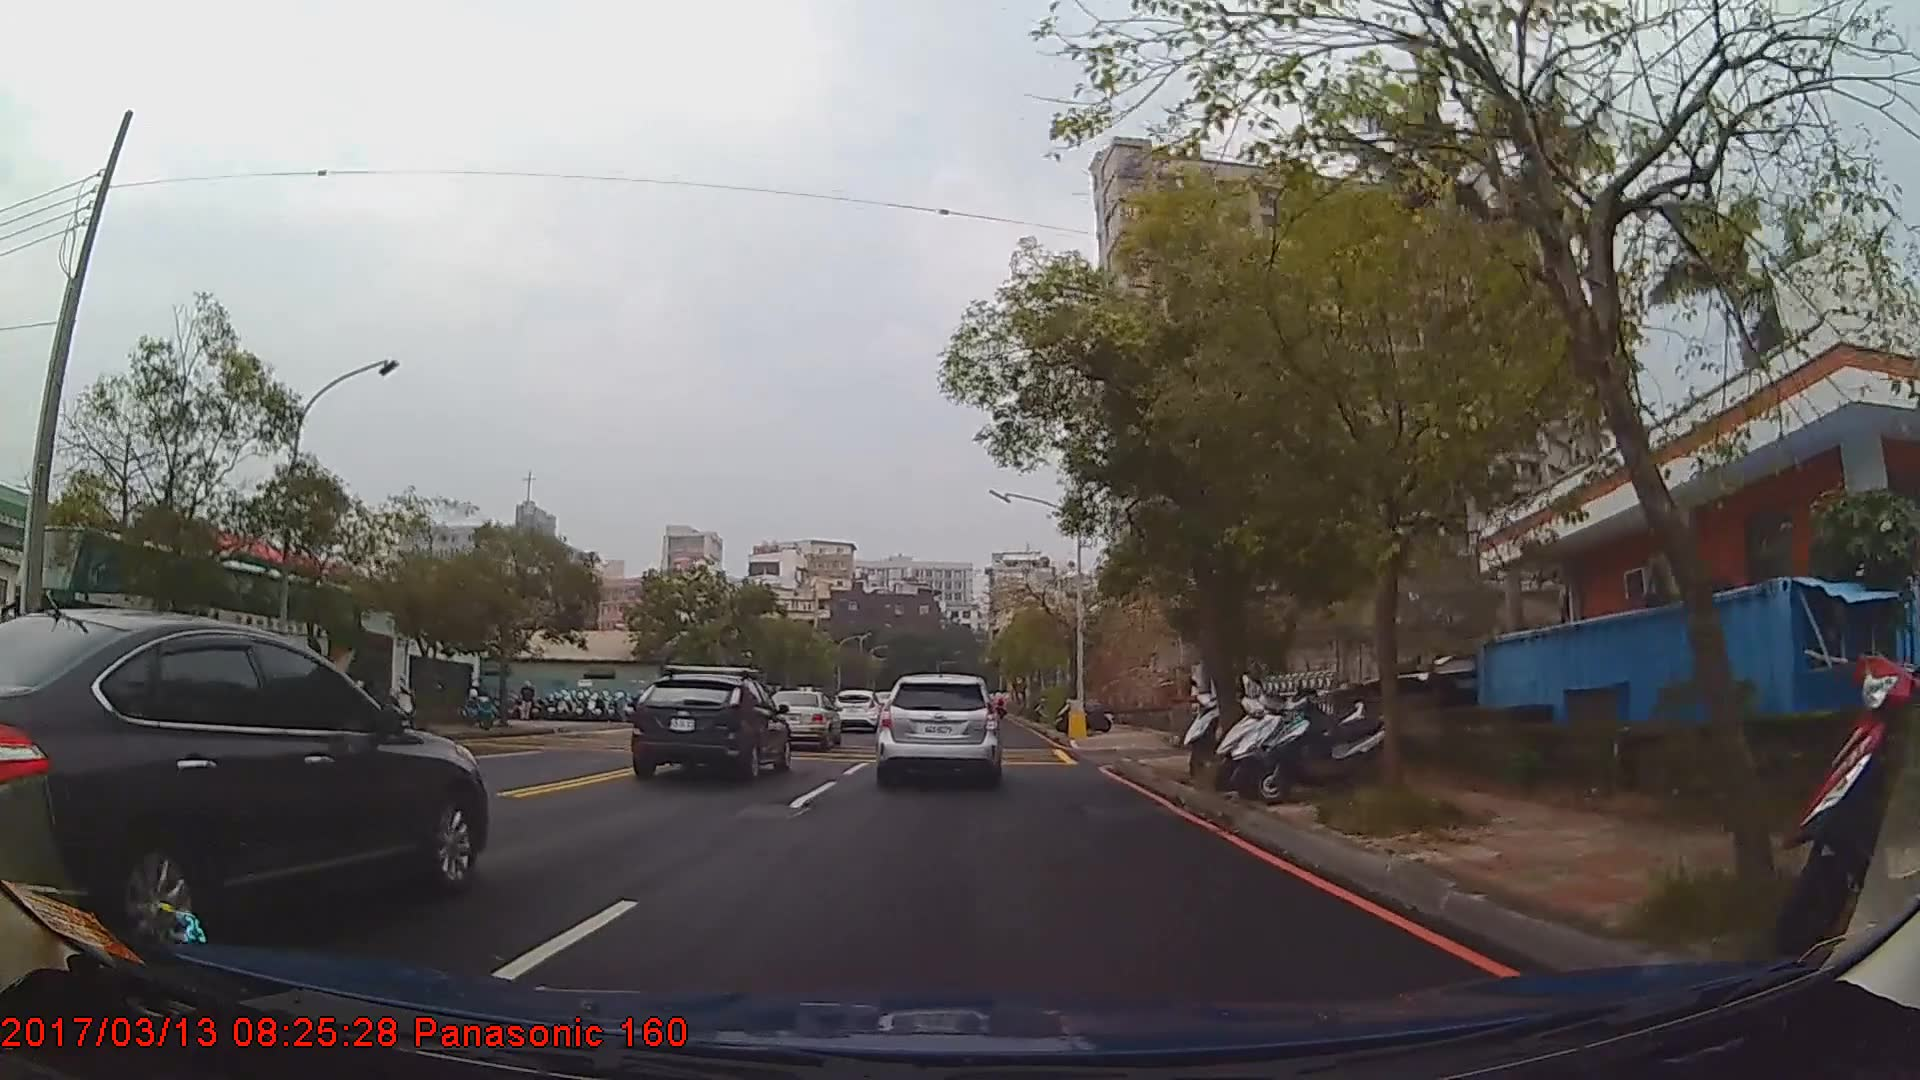vehicle: (0, 604, 487, 953), (0, 522, 357, 746), (628, 670, 791, 783), (876, 671, 1000, 790), (761, 687, 840, 748), (831, 688, 884, 733)
